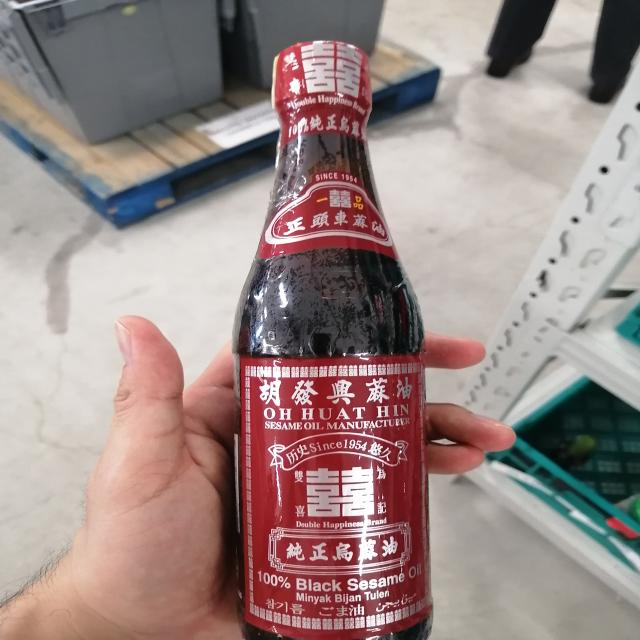object_name: (241, 41, 427, 640)
